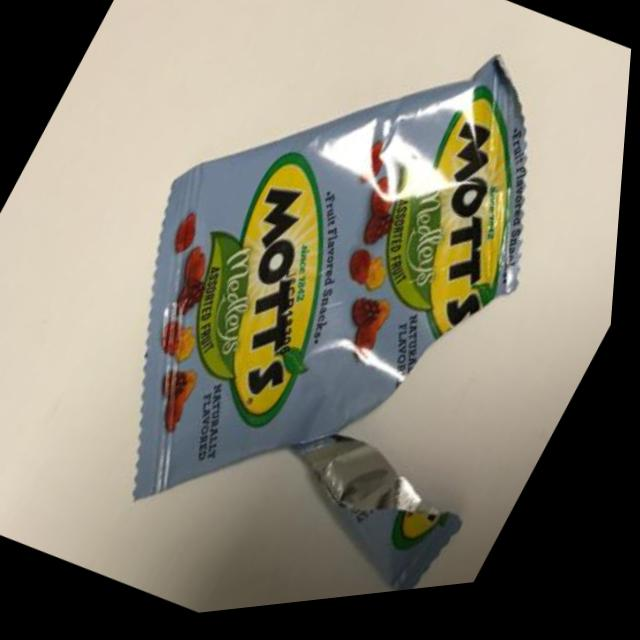trash: (0, 0, 640, 638)
